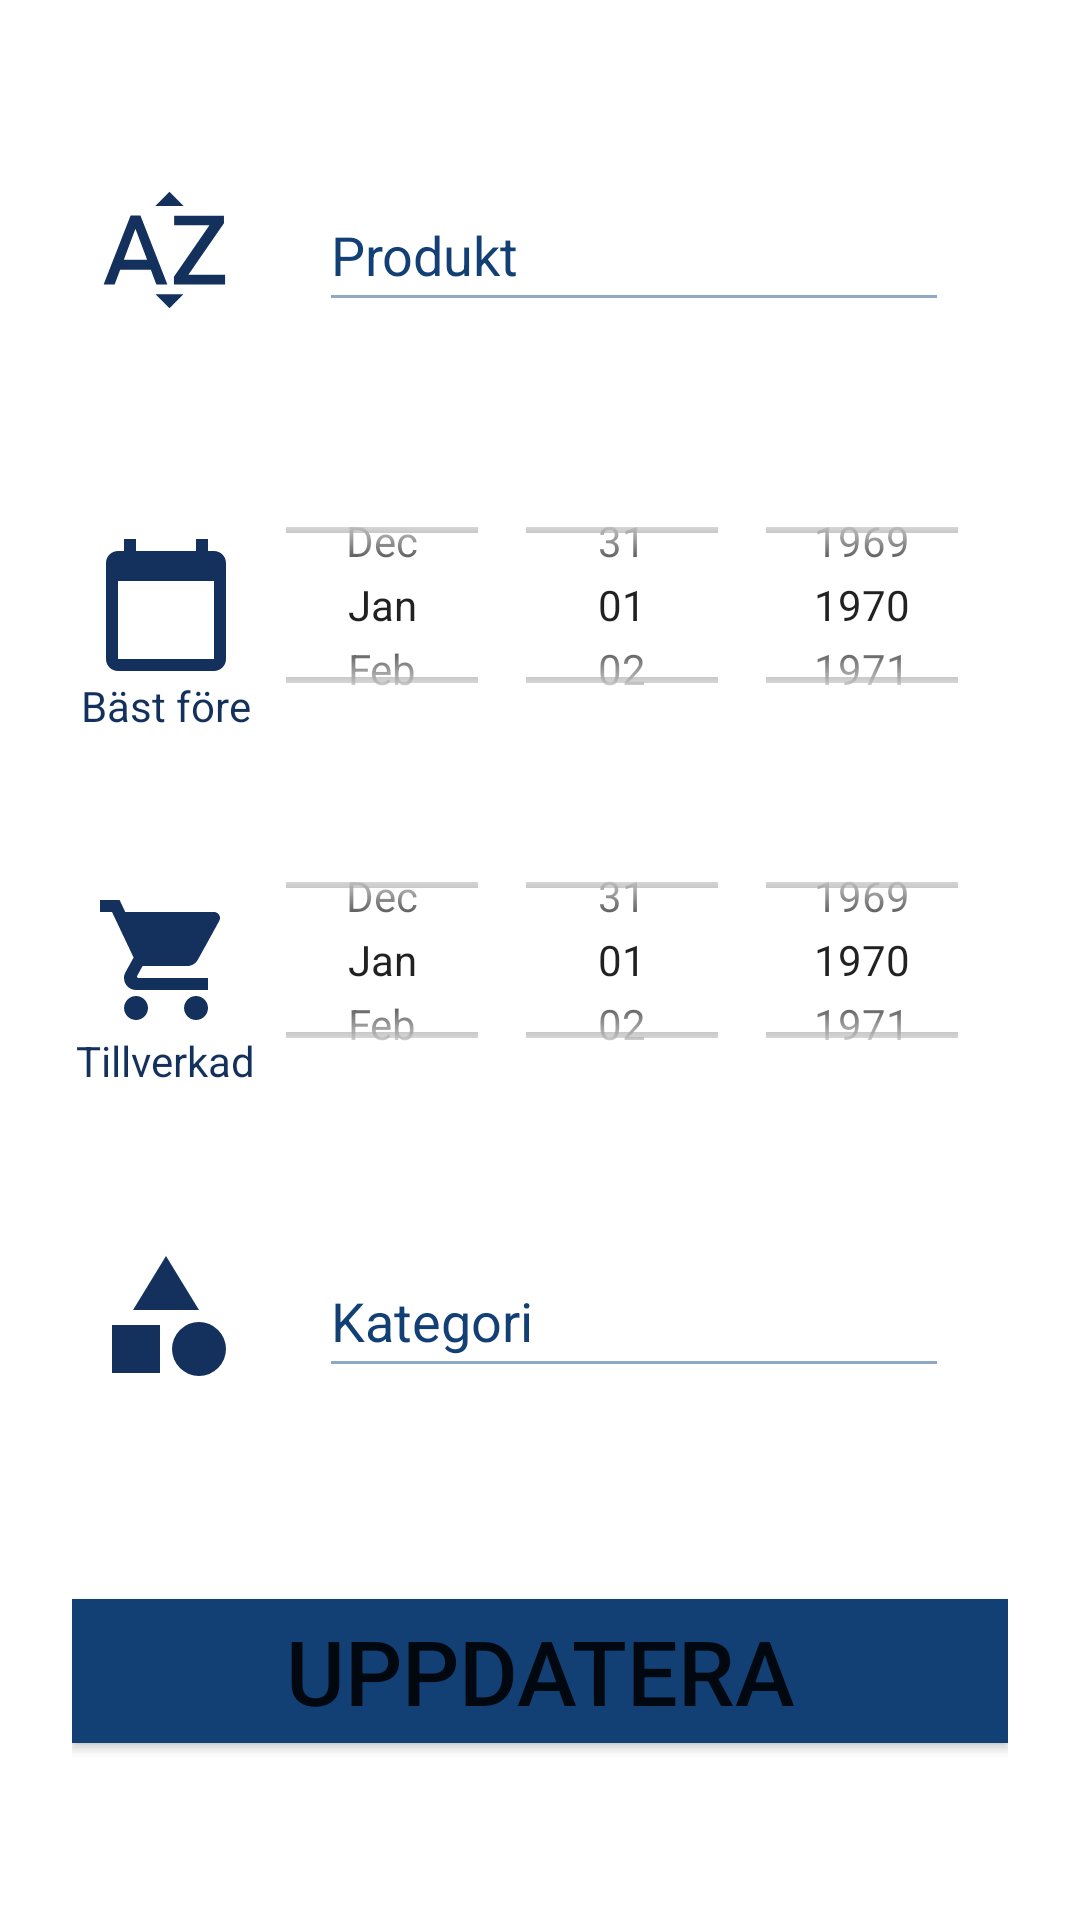

Icon click points for this 1080x1920 phone screenshot, format [x,y]:
category: [169,1316]
date: [166,605]
shopping cart: [160,960]
